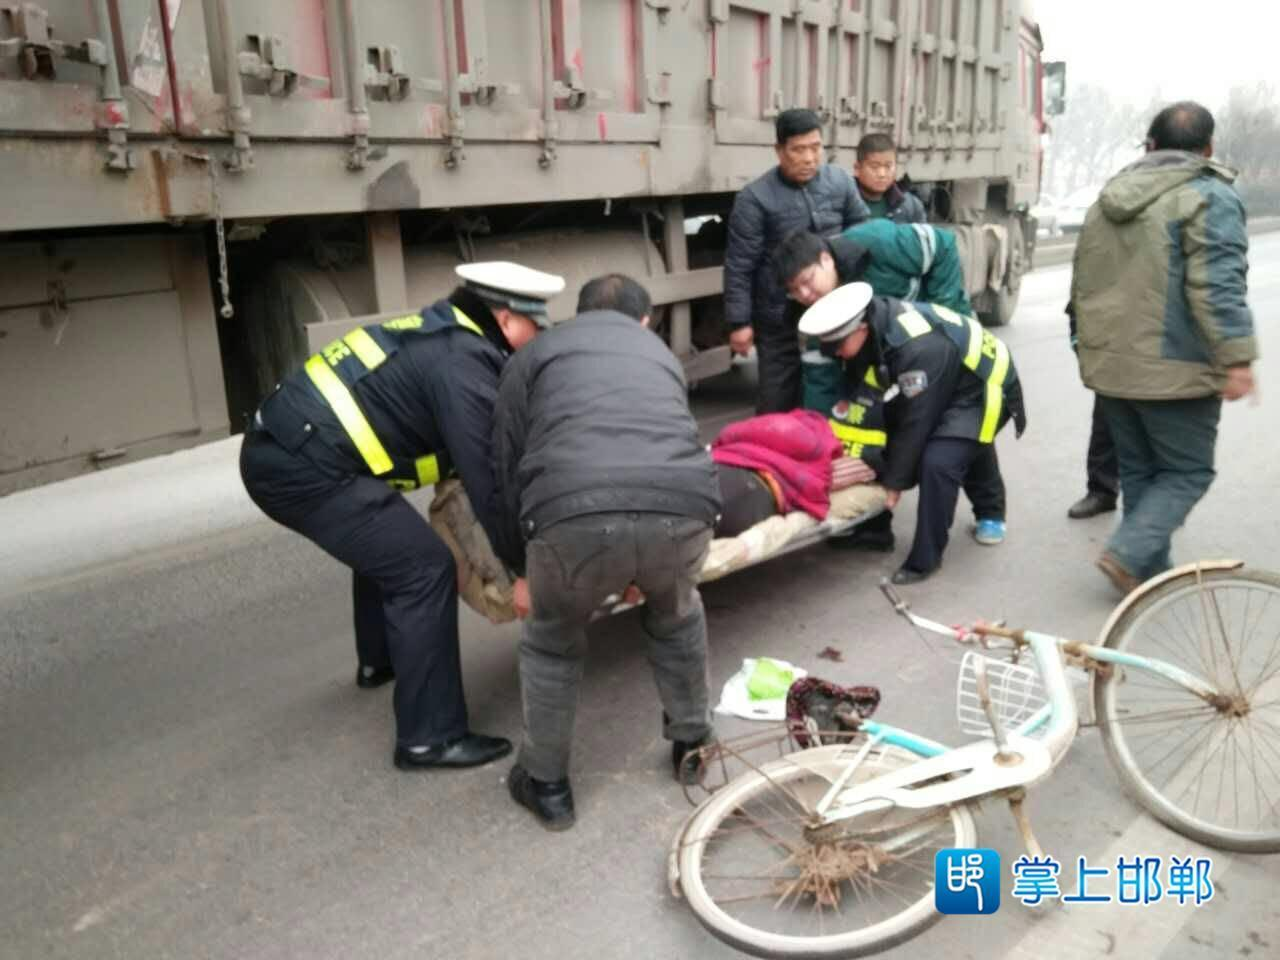Fall-Detected: (671, 400, 909, 579)
